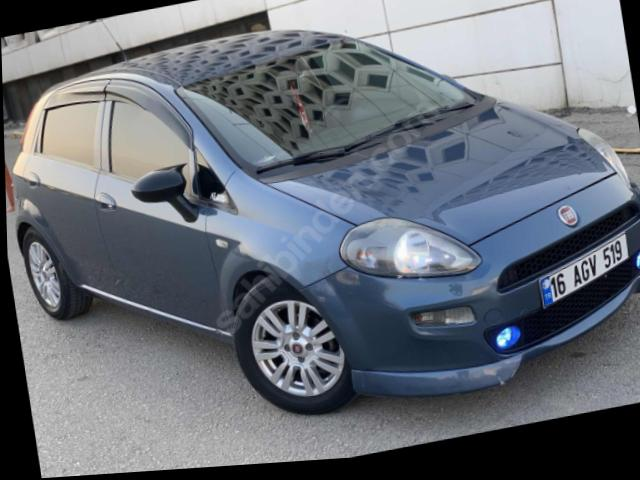plaka: (539, 232, 628, 306)
